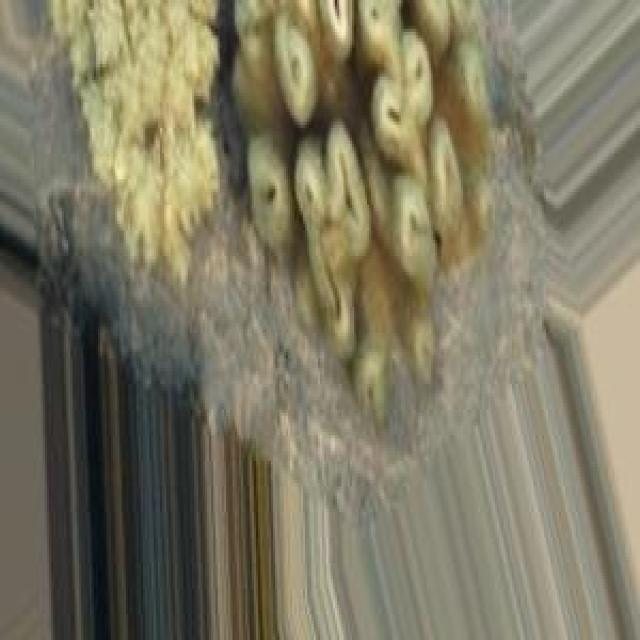Healthy: (234, 1, 494, 414), (50, 1, 219, 279)
